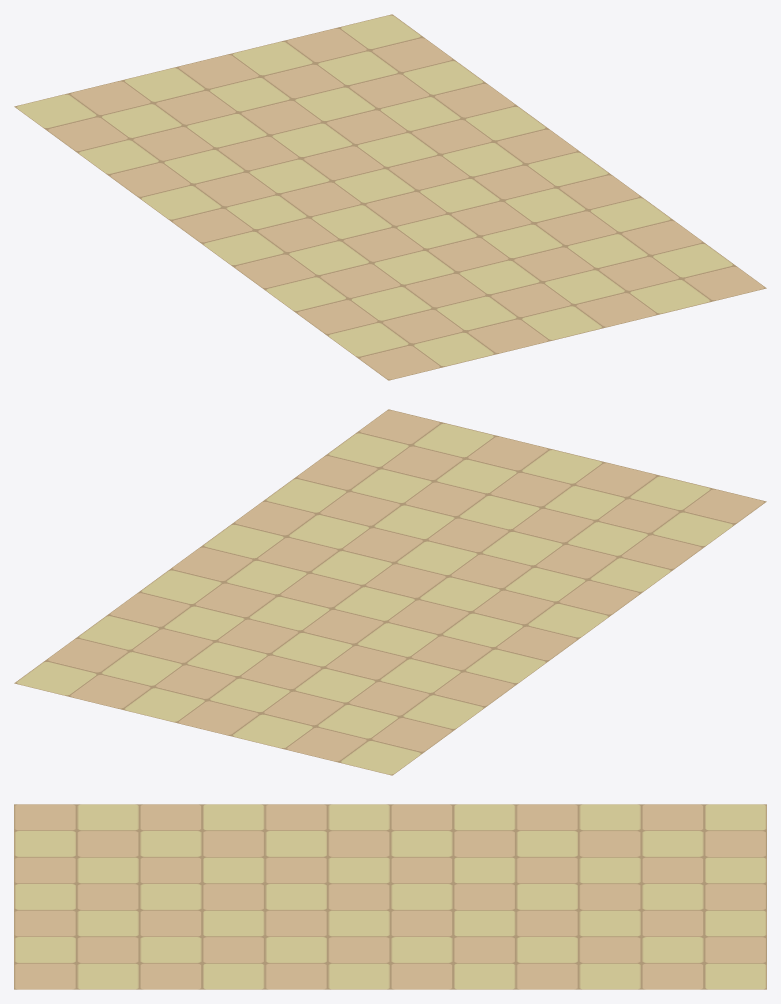
File: Stage.gltf
The picture shows the model from 3 angles, top to bottom: view 1: azimuth 30°, elevation 25°; view 2: azimuth 150°, elevation 25°; view 3: azimuth 270°, elevation 25°; orthographic projection.
Visible parts, largest first — view 1: pPlane15; view 2: pPlane15; view 3: pPlane15.
Boxes of the visible parts, x1=… form: pPlane15: x1=14, y1=14, x2=766, y2=380; pPlane15: x1=14, y1=409, x2=766, y2=775; pPlane15: x1=14, y1=804, x2=766, y2=989.
Size of the model in its own units: 140 by 0 by 240.
1 material, 1 textured.
